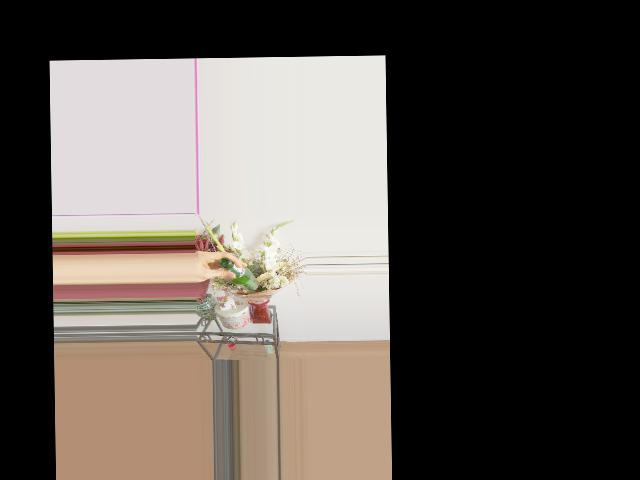beer: (219, 257, 258, 291)
